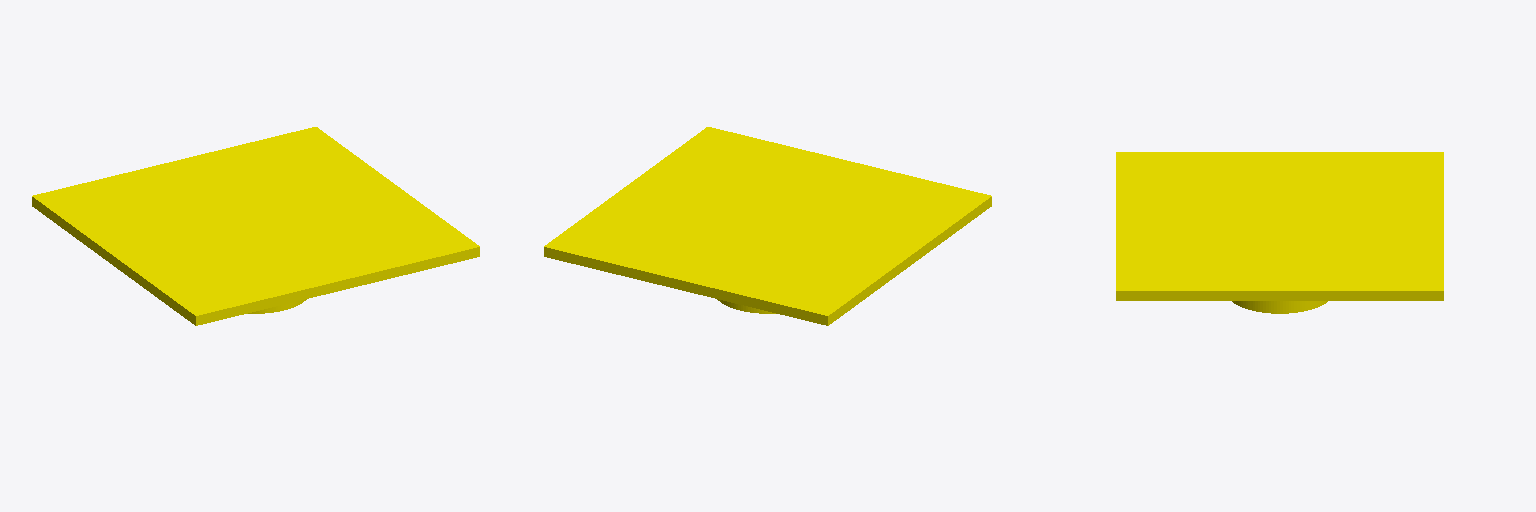
The model's file is Gimbalpart_static_off.obj.
3 views of the same model, side by side, from view 1: azimuth 30°, elevation 25°; view 2: azimuth 150°, elevation 25°; view 3: azimuth 270°, elevation 25° (orthographic).
Parts seen in each view (by area): view 1: Object.1; view 2: Object.1; view 3: Object.1, Object.2.
Part boxes in pixels (left/top/right/bottom): Object.1: left=32, top=127, right=479, bottom=325; Object.1: left=544, top=127, right=991, bottom=325; Object.1: left=1116, top=152, right=1443, bottom=300; Object.2: left=1232, top=301, right=1327, bottom=313.
Size of the model in its own units: 150 by 34.91 by 150.